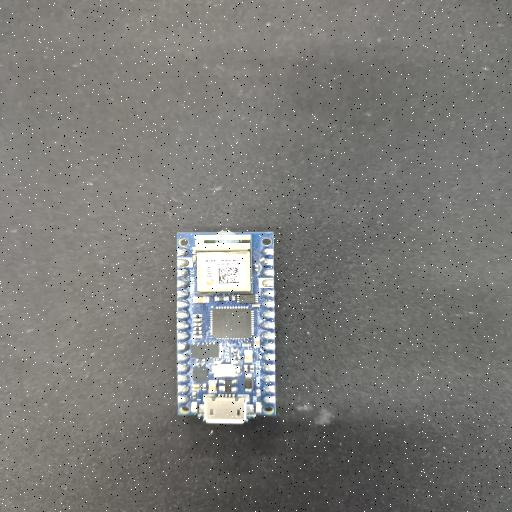arduino-nano-iot-33: (175, 230, 275, 419)
